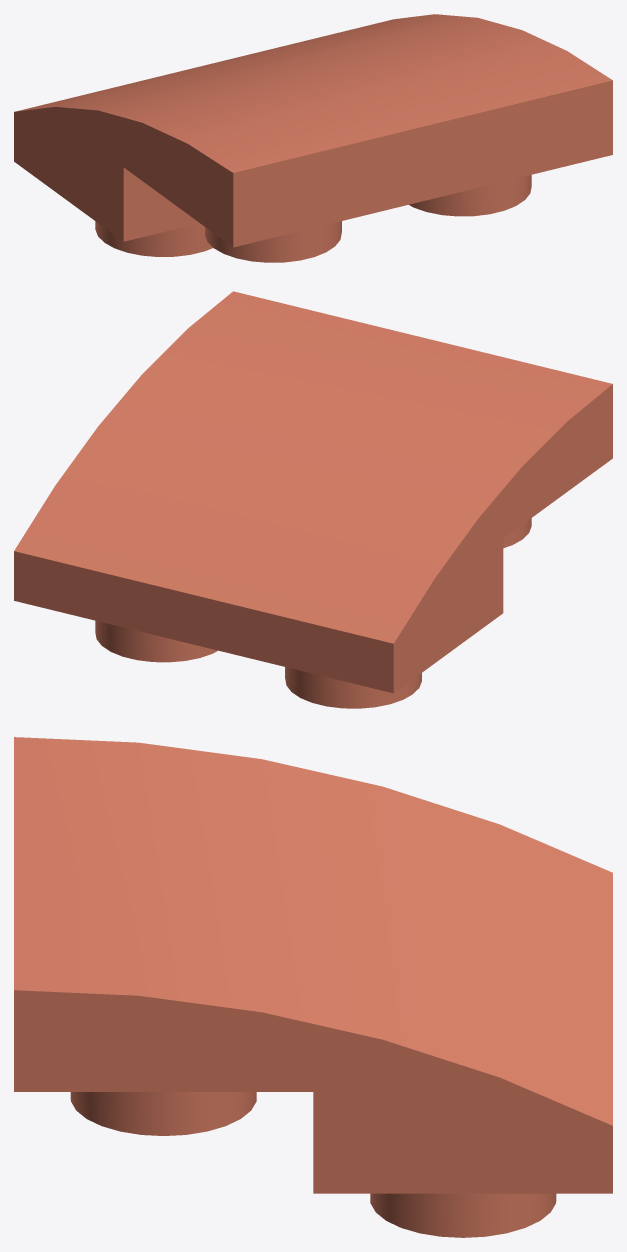
3 renders of one model, top to bottom at view 1: azimuth 30°, elevation 25°; view 2: azimuth 150°, elevation 25°; view 3: azimuth 270°, elevation 25°, orthographic. The views are drawn at different scales.
Parts seen in each view (by area): view 1: [pivoted]; view 2: [pivoted]; view 3: [pivoted].
Part boxes in pixels (left/top/right/bottom): [pivoted]: left=14, top=14, right=612, bottom=262; [pivoted]: left=14, top=291, right=612, bottom=708; [pivoted]: left=14, top=737, right=612, bottom=1237.
Bounding box in the file's own units: 1.6 × 0.8 × 1.6.
